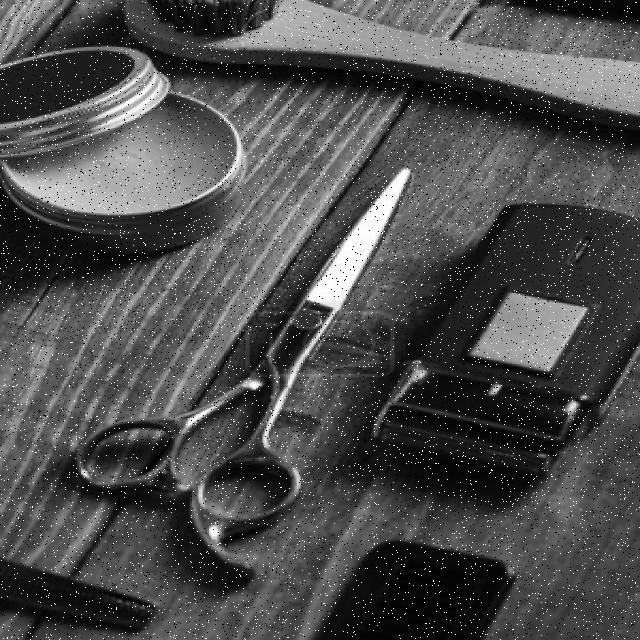scissors: (39, 150, 444, 598)
